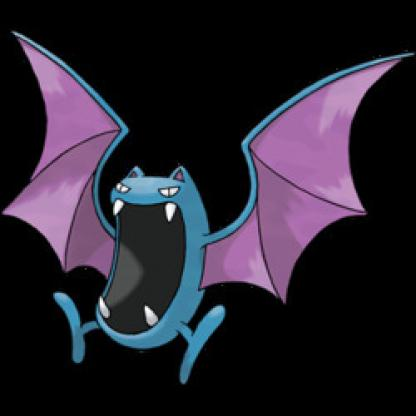Golbat: (7, 11, 412, 391)
